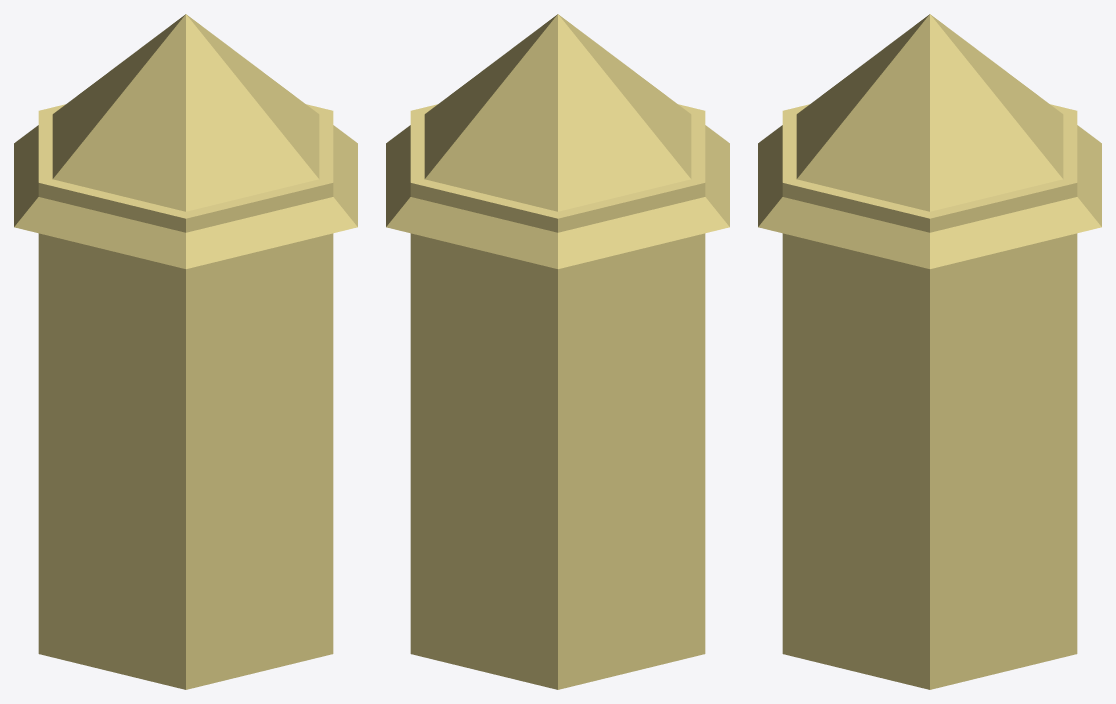
Rendered from Lantern.glb.
The picture shows the model from 3 angles, left to right: view 1: azimuth 30°, elevation 25°; view 2: azimuth 150°, elevation 25°; view 3: azimuth 270°, elevation 25°; orthographic projection.
Parts seen in each view (by area): view 1: filler_Lantern; view 2: filler_Lantern; view 3: filler_Lantern.
Boxes of the visible parts, x1,y1,x2,y2 form: filler_Lantern: (14,14,357,689); filler_Lantern: (386,14,729,689); filler_Lantern: (758,14,1101,689).
Size of the model in its own units: 0.42 by 0.705 by 0.3637.
